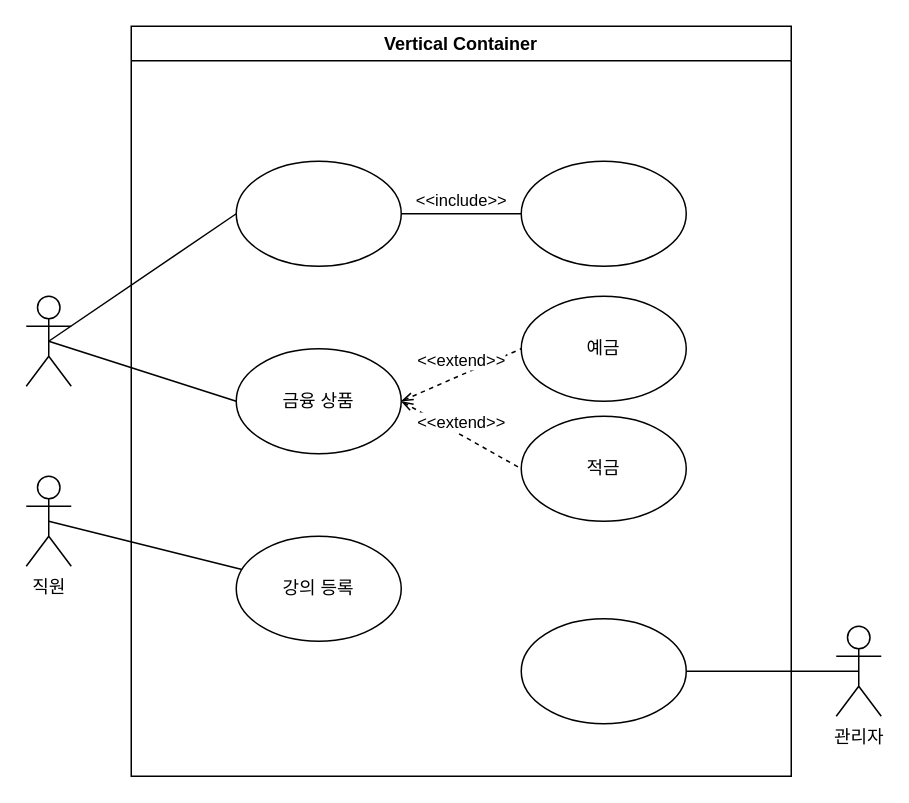
Image size: 909x803. Some labels were removed from this diagram. The box of each missing label's shape, as (x1, y1, x2, y2) in pixels:
고객: (25, 295, 71, 386)
고객 개인 정보 관리: (520, 617, 686, 724)
입출금 시스템: (520, 160, 686, 266)
통장 개설: (235, 160, 401, 266)
